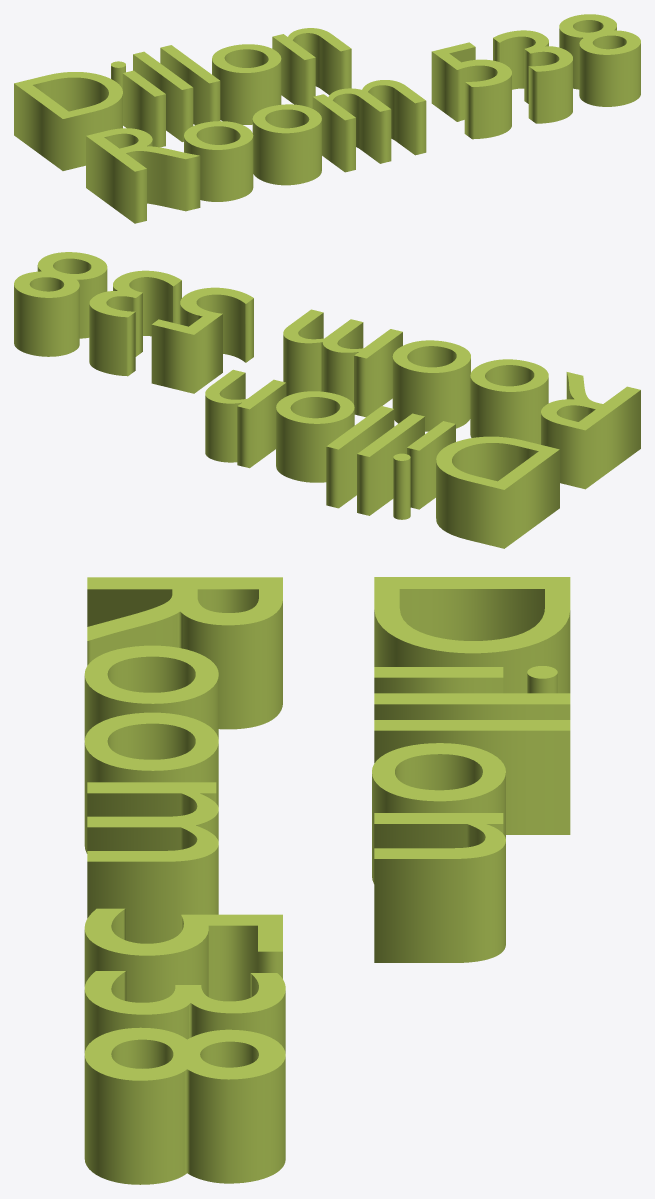
File: dillon-538.gltf
3 views of the same model, one above another, from view 1: azimuth 30°, elevation 25°; view 2: azimuth 150°, elevation 25°; view 3: azimuth 270°, elevation 25° (orthographic). The views are drawn at different scales.
Parts seen in each view (by area): view 1: Text; view 2: Text; view 3: Text.
Boxes of the visible parts, box(x1,y1,x2,y2) form: Text: box(14, 14, 640, 223); Text: box(14, 252, 640, 548); Text: box(84, 577, 570, 1184).
Size of the model in its own units: 4.15 by 0.4 by 1.69.
